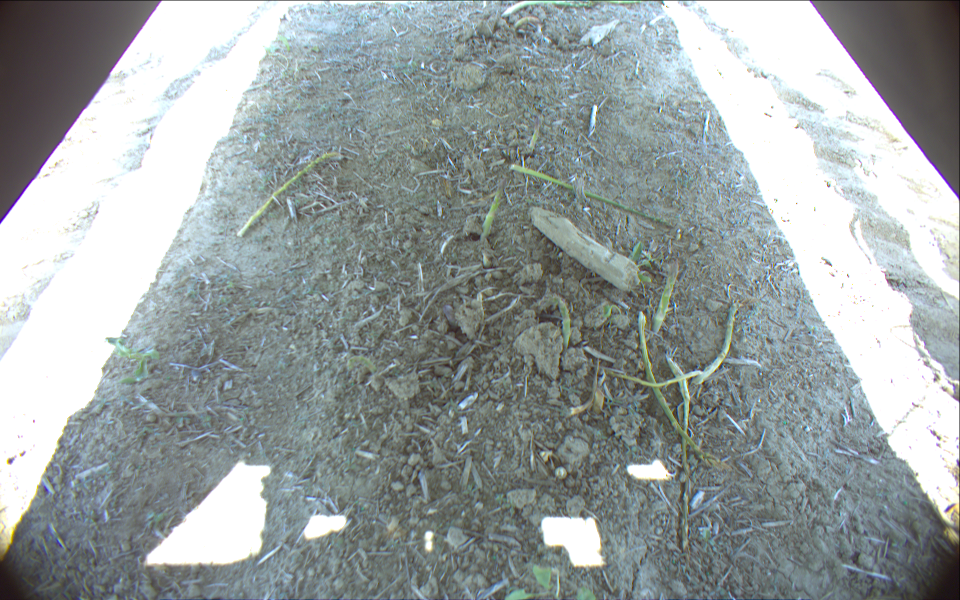aspa: (639, 313, 725, 470), (508, 164, 673, 228), (234, 150, 341, 237), (666, 355, 694, 551), (692, 300, 739, 384), (651, 255, 679, 333), (500, 1, 634, 16), (479, 169, 505, 243), (541, 297, 572, 350), (529, 116, 541, 156), (511, 15, 538, 30)
